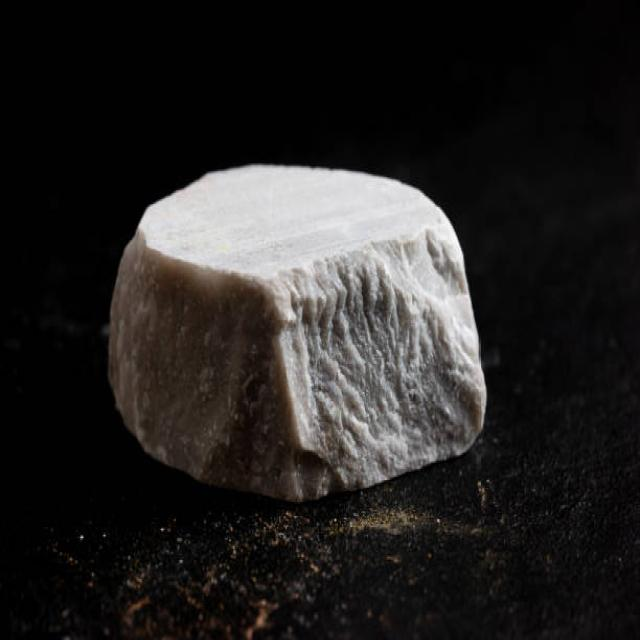Sedimentary: (107, 157, 503, 508)
